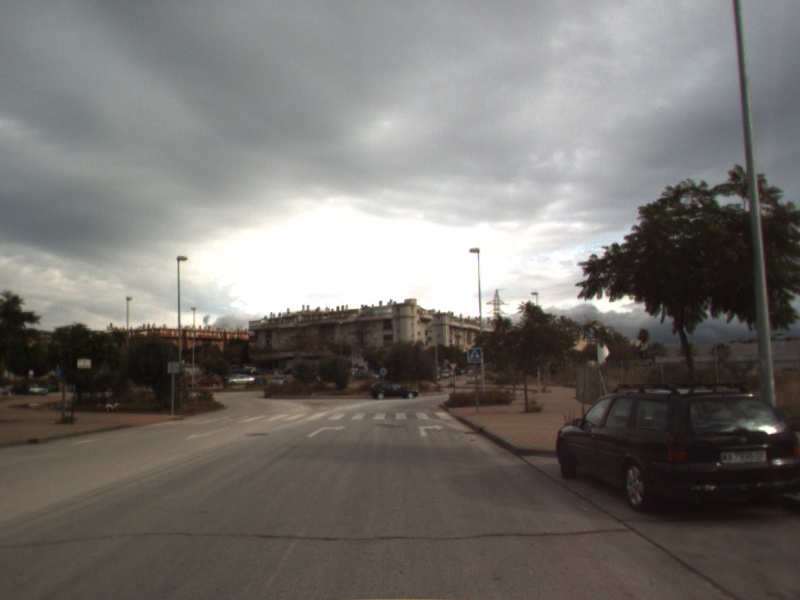RIGHT: (305, 422, 348, 439), (417, 422, 446, 438)
